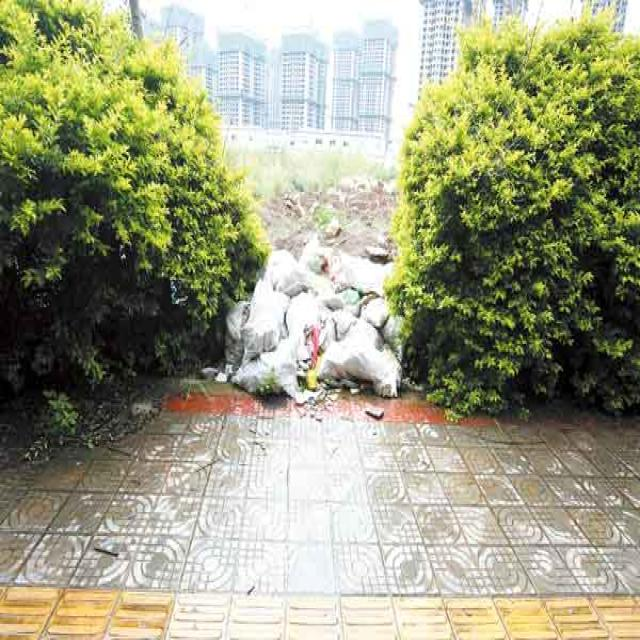garbage: (218, 220, 404, 406)
